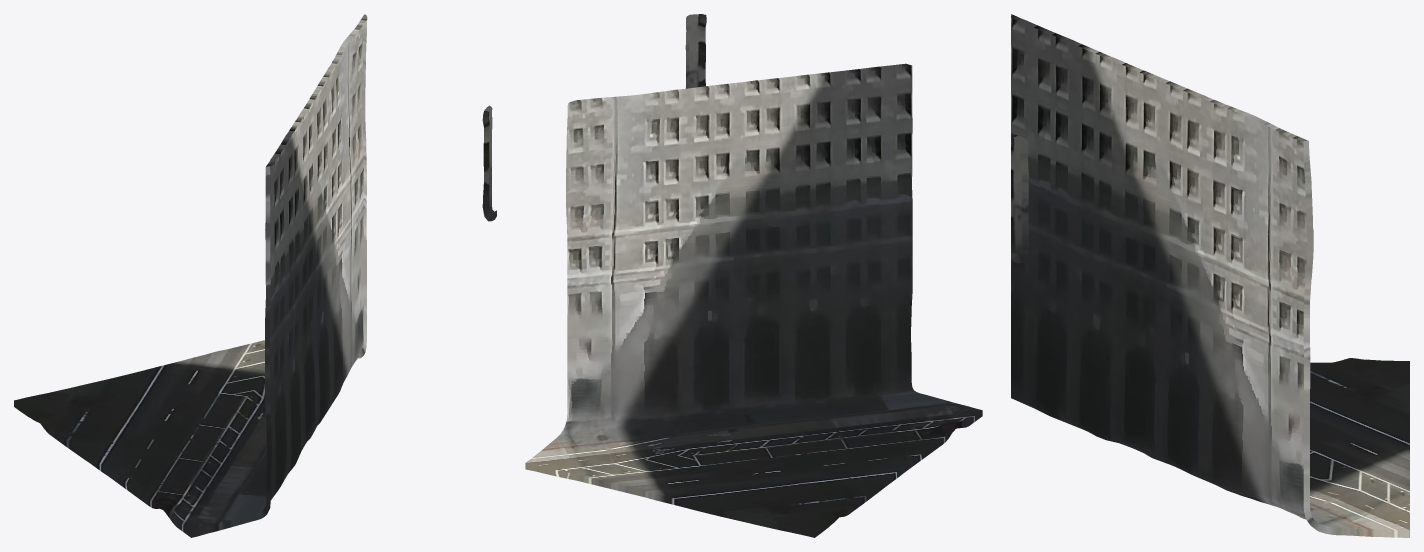
File: z20-167781-405233-h0-yup-uvflip-v3-world.glb
The picture shows the model from 3 angles, left to right: view 1: azimuth 30°, elevation 25°; view 2: azimuth 150°, elevation 25°; view 3: azimuth 270°, elevation 25°; orthographic projection. The views are drawn at different scales.
Size of the model in its own units: 30.16 by 33.32 by 30.32.
Materials: 1 (1 with a texture image).
